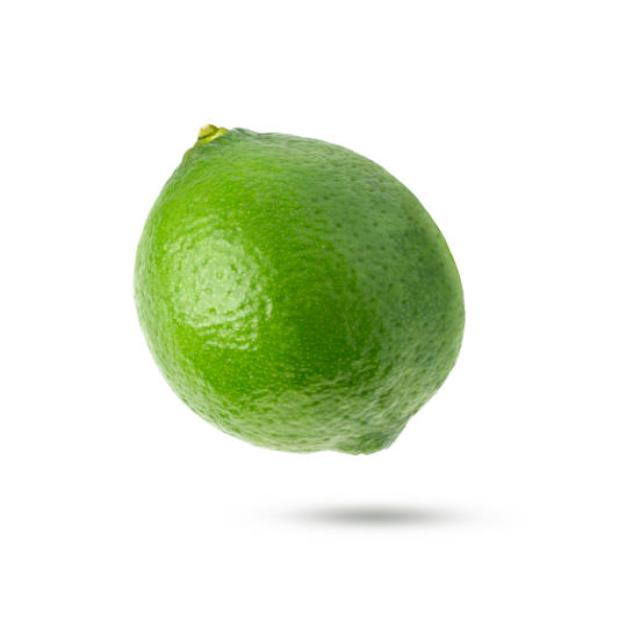Unripe: (132, 122, 468, 457)
